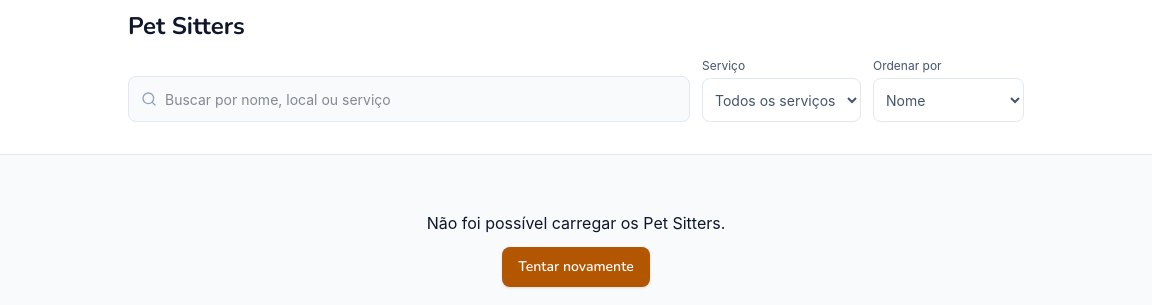
Scenario: vitrine SITTER › distingue erro de vazio e permite tentar novamente
Expected: the message "Não foi possível carregar os Pet Sitters. Tentar novamente" is shown, left=427, top=213, right=725, bottom=287
Click the button "Tentar novamente" at point(576, 267), box left=502, top=247, right=650, bottom=287
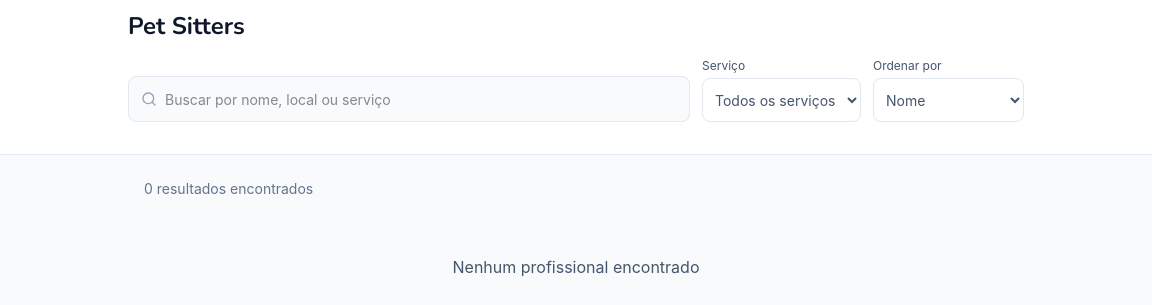
Expected: the text "Nenhum profissional encontrado" is shown, left=452, top=257, right=700, bottom=277
